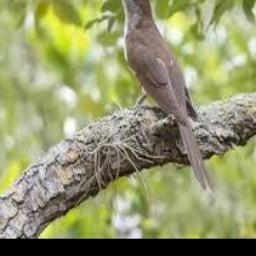Cuckoo: (108, 0, 216, 196)
